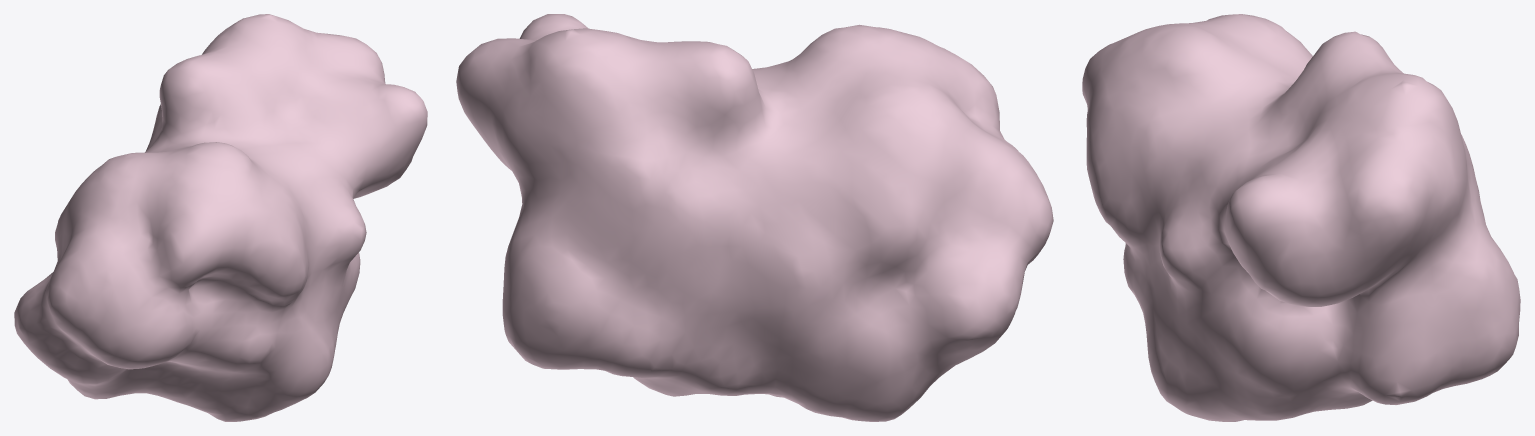
File: brd4.glb
The picture shows the model from 3 angles, left to right: view 1: azimuth 30°, elevation 25°; view 2: azimuth 150°, elevation 25°; view 3: azimuth 270°, elevation 25°; orthographic projection. The views are drawn at different scales.
Size of the model in its own units: 48.95 by 37.78 by 38.38.
